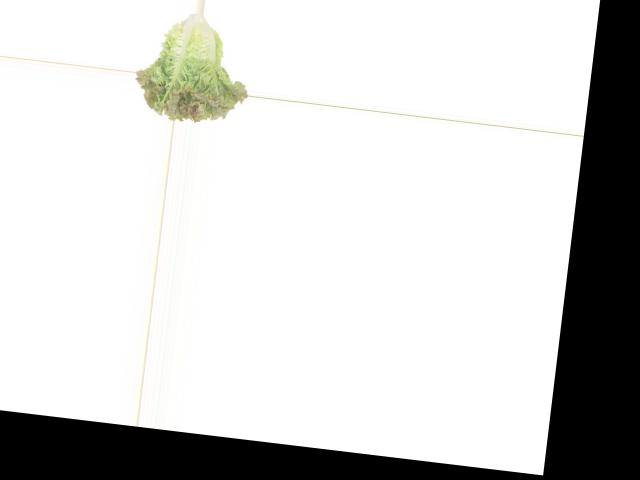lettuce: (132, 7, 256, 127)
